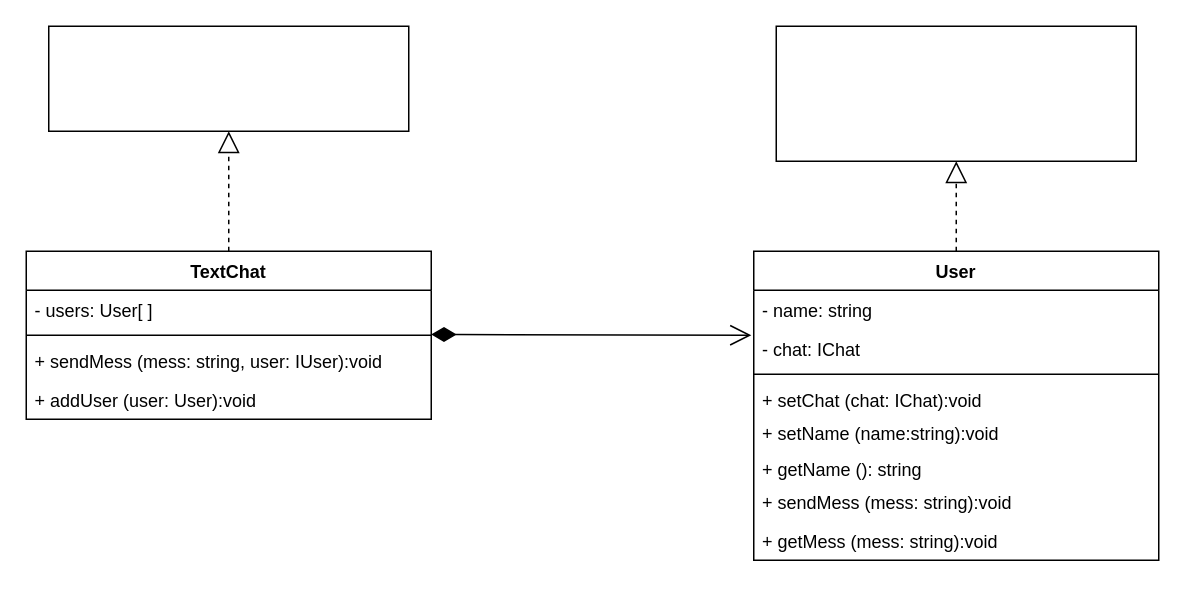
The diagram is 1185 pixels wide and 591 high, and some of its shapes have lost their labels. Each missing label, with the centre of its shape:
<<Interface>> IChat + sendMess (mess:string, user: User):void: point (228, 78)
<<Interface>> IUser + sendMess (mess:string):void + getMess (mess:string):void: point (955, 93)
